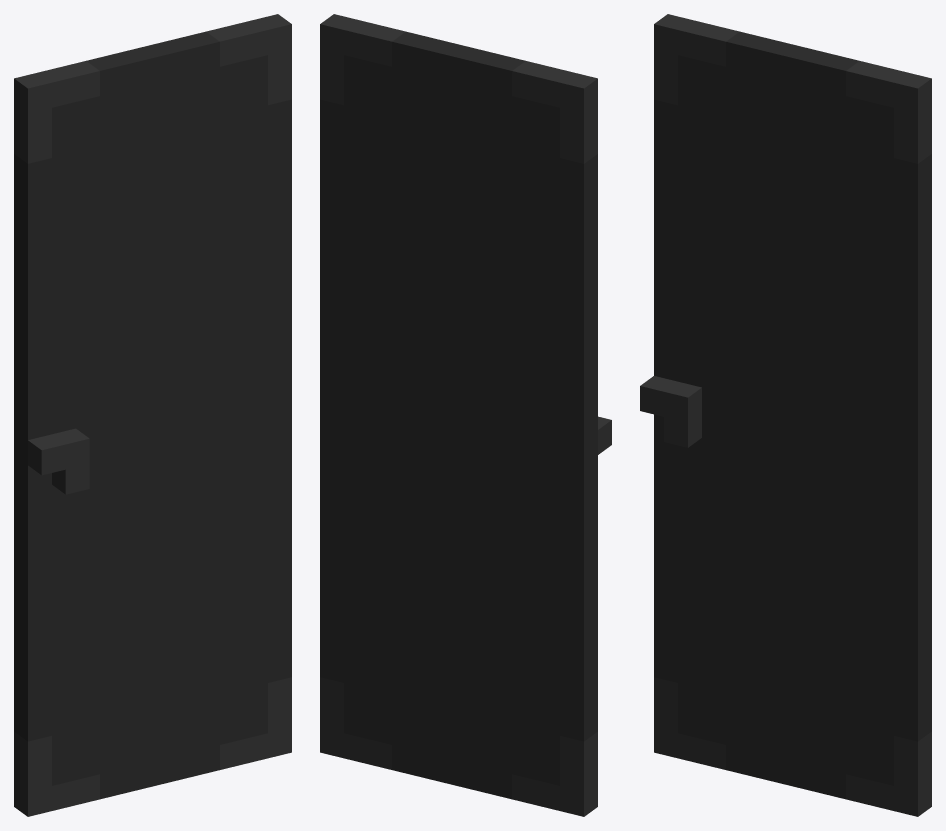
Rendered from Decor-52.obj.
3 views of the same model, side by side, from view 1: azimuth 30°, elevation 25°; view 2: azimuth 150°, elevation 25°; view 3: azimuth 330°, elevation 25° (orthographic).
Size of the model in its own units: 1.1 by 2.9 by 0.2.
Materials: 1 (1 with a texture image).
